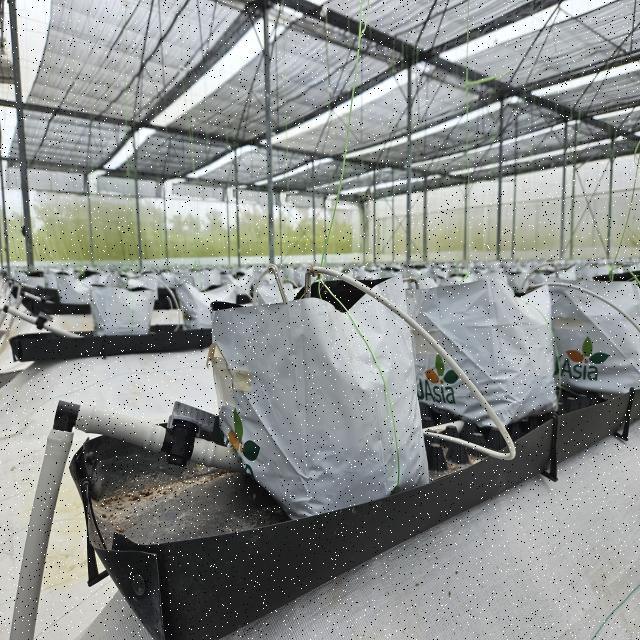Obstacle: (313, 265, 523, 466)
Soilbag: (208, 270, 427, 523), (411, 274, 558, 427)
